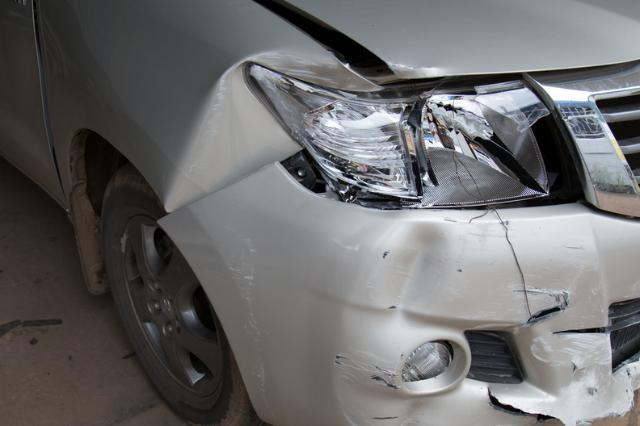Bonnet: (259, 0, 468, 90)
Bumper: (155, 150, 640, 423)
